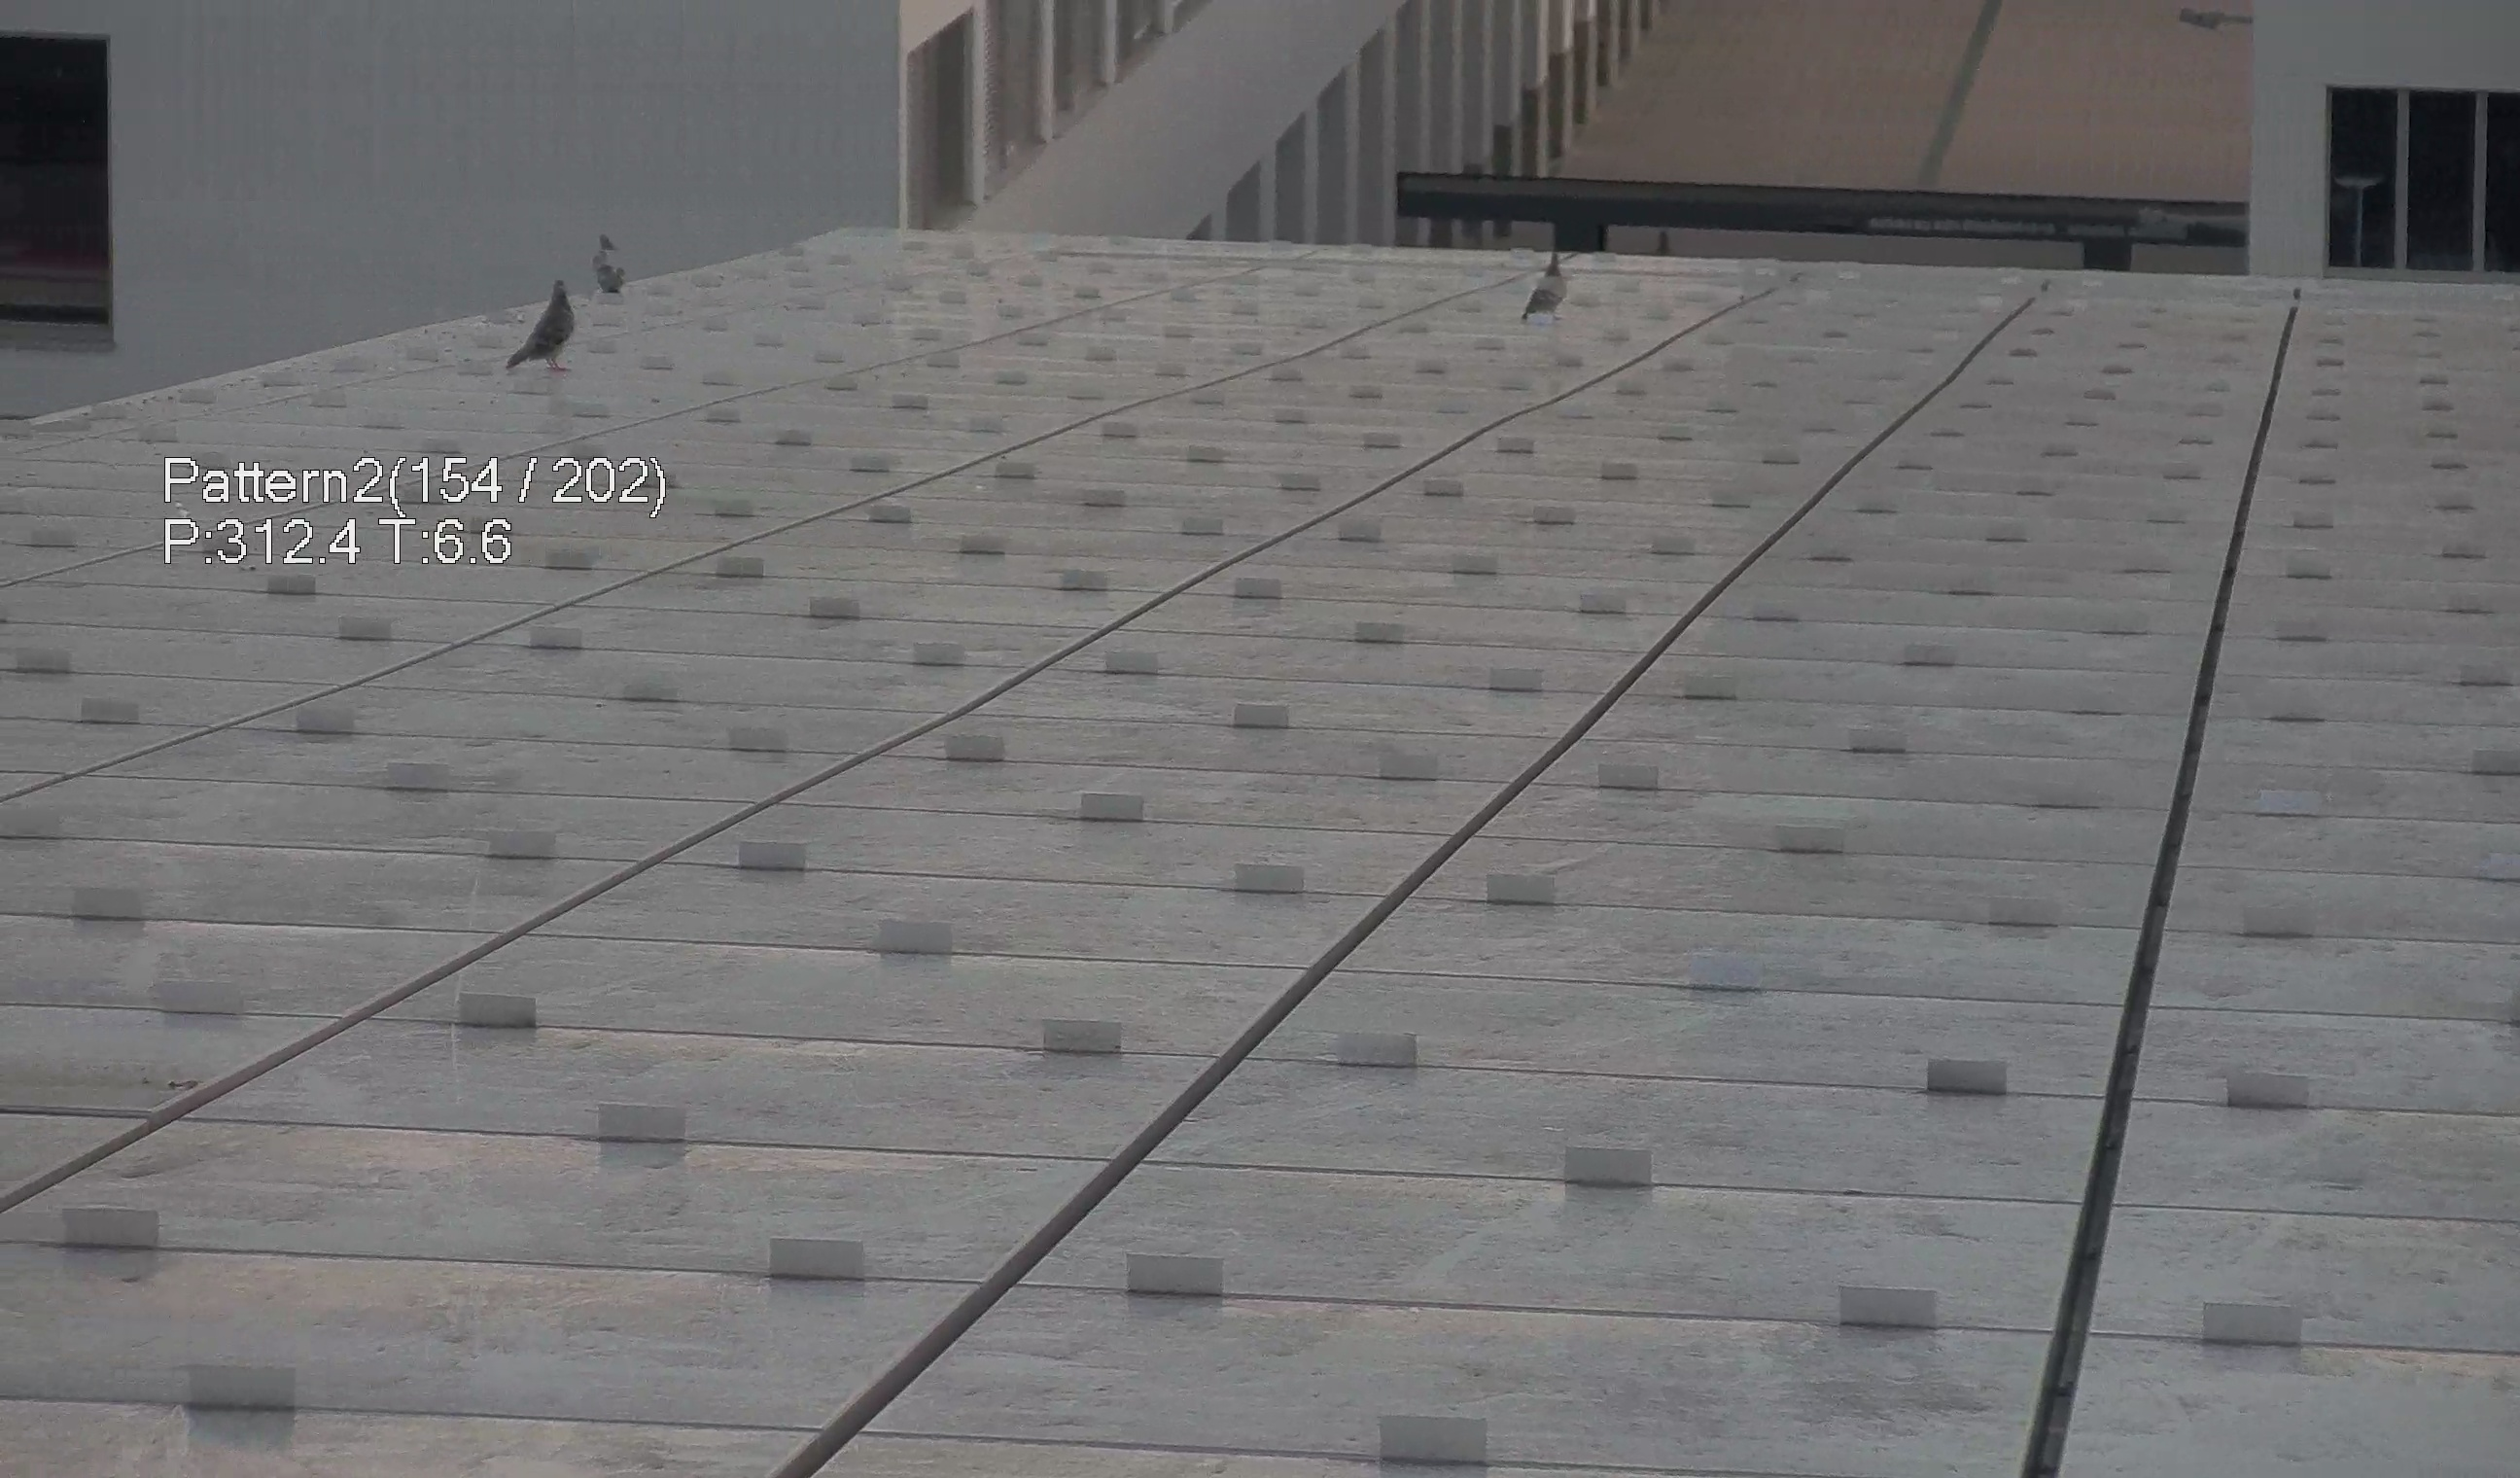Pigeon: (494, 257, 573, 380), (1514, 250, 1583, 327), (584, 225, 640, 294)
